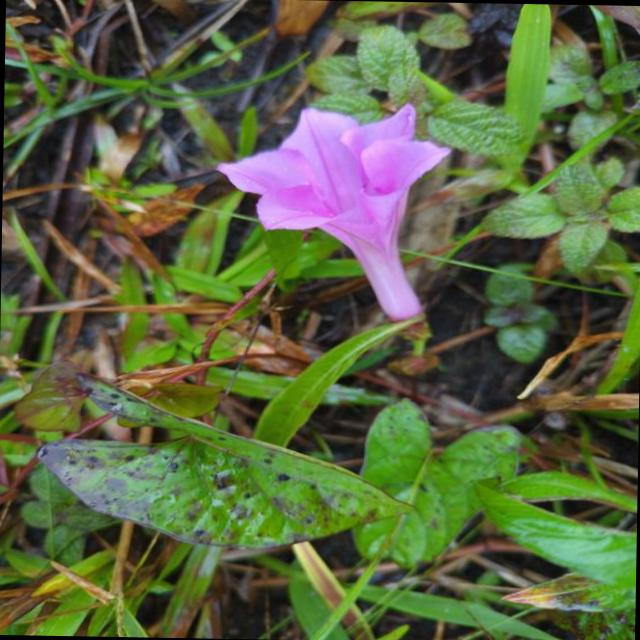ipomoea: (208, 97, 456, 326)
